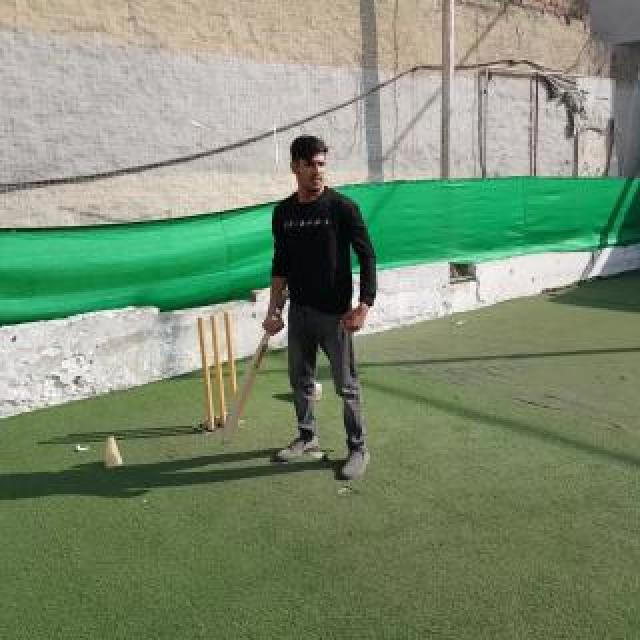bat: (220, 288, 290, 444)
